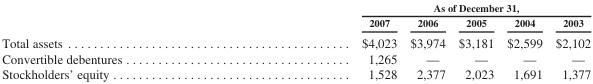table: (1, 1, 590, 80)
table column: (1, 1, 241, 80), (241, 1, 402, 80), (402, 1, 451, 80), (499, 1, 548, 80), (451, 1, 499, 80), (548, 1, 590, 80)
table column header: (1, 1, 590, 32)
table row: (1, 32, 590, 50), (1, 15, 590, 32), (1, 50, 590, 66), (1, 1, 590, 15), (1, 66, 590, 80)
table spanning cell: (241, 1, 590, 15)
